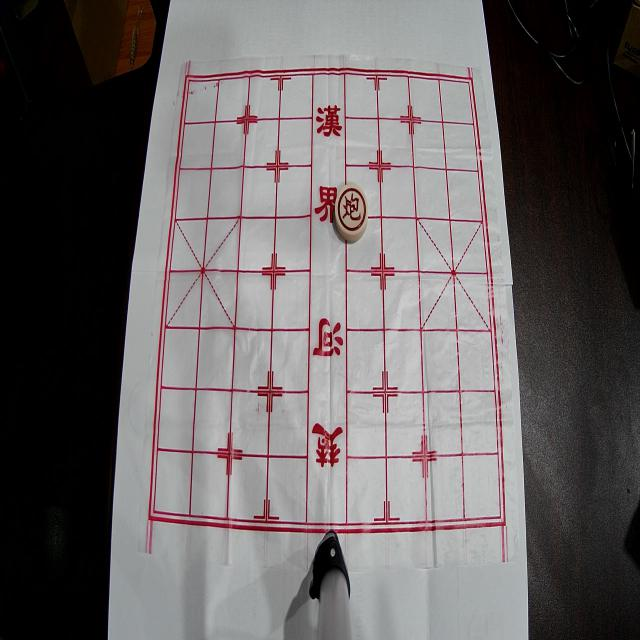red-cannon: (335, 184, 368, 241)
